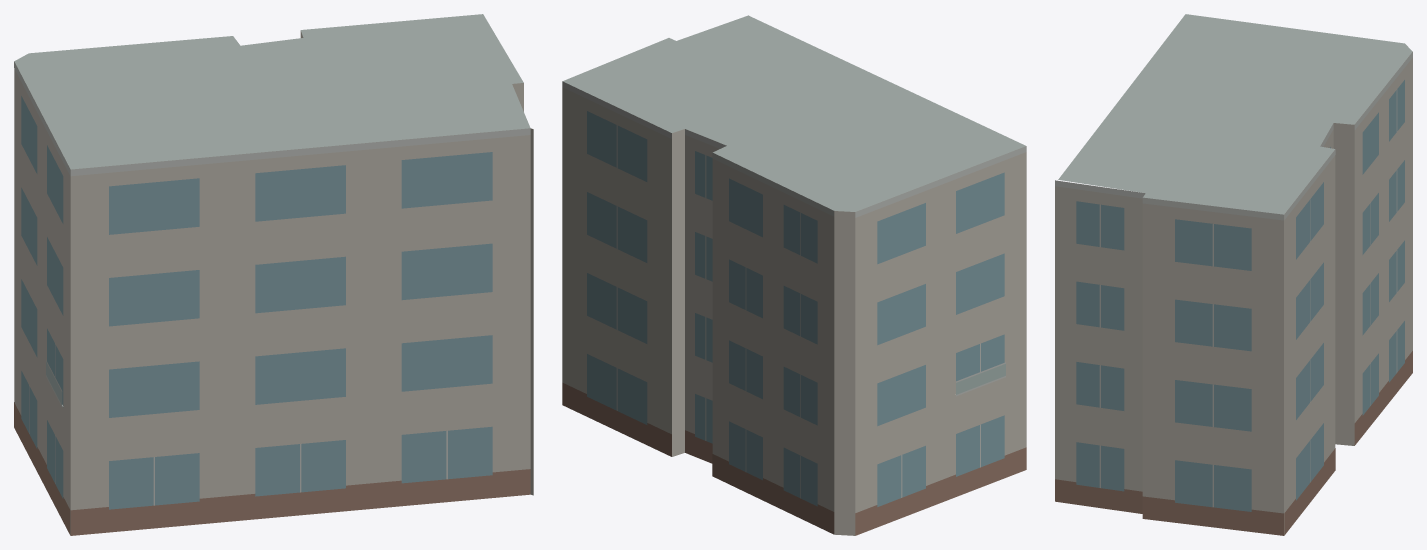
Rendered from survey-upis-32783080.glb.
3 views of the same model, side by side, from view 1: azimuth 30°, elevation 25°; view 2: azimuth 150°, elevation 25°; view 3: azimuth 270°, elevation 25° (orthographic). The views are drawn at different scales.
Visible parts, largest first — view 1: survey-upis-32783080.tmp; view 2: survey-upis-32783080.tmp; view 3: survey-upis-32783080.tmp.
Boxes of the visible parts, bbox=[...] form: survey-upis-32783080.tmp: bbox=[14, 14, 533, 535]; survey-upis-32783080.tmp: bbox=[562, 15, 1026, 535]; survey-upis-32783080.tmp: bbox=[1055, 14, 1412, 535].
Bounding box in the file's own units: 17.82 × 13.3 × 13.43.
